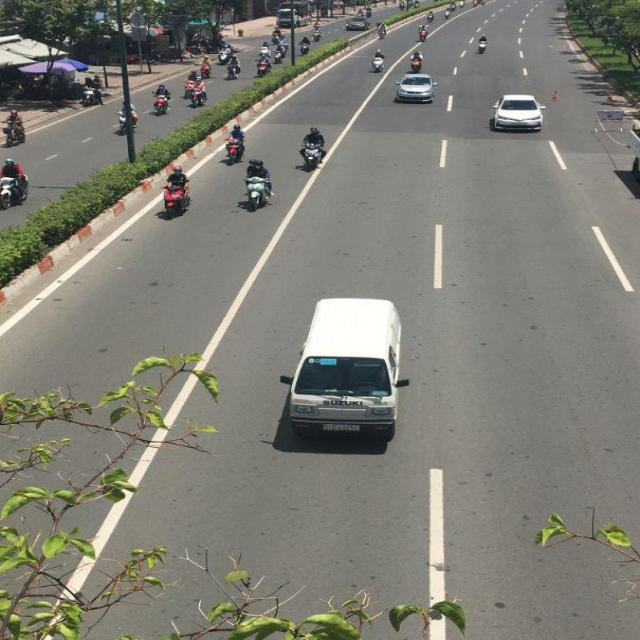car: (287, 300, 403, 448), (491, 96, 544, 136), (393, 73, 437, 103), (344, 18, 368, 31)
motorcycle: (1, 162, 30, 210), (161, 178, 193, 219), (238, 176, 273, 212), (299, 130, 326, 172), (186, 79, 208, 107), (226, 135, 246, 162), (154, 85, 172, 114), (225, 57, 242, 79), (257, 57, 271, 76)
